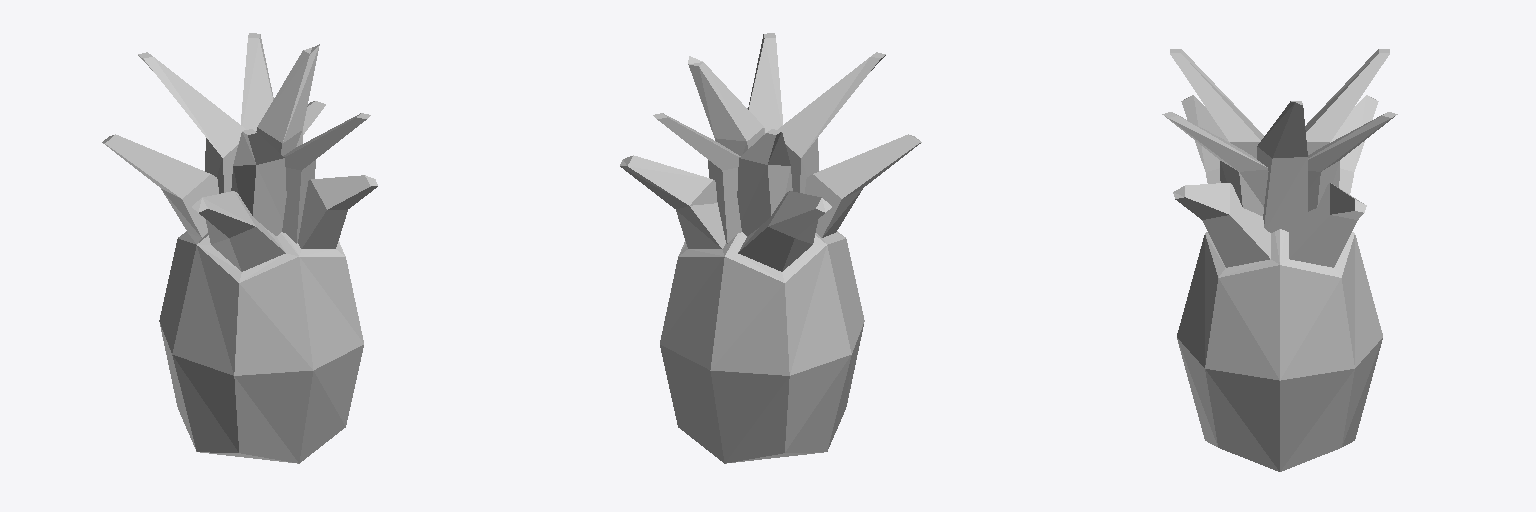
The model's file is pineapple.obj.
3 renders of one model, left to right at view 1: azimuth 30°, elevation 25°; view 2: azimuth 150°, elevation 25°; view 3: azimuth 270°, elevation 25°, orthographic.
Visible parts, largest first — view 1: Cube; view 2: Cube; view 3: Cube.
Part boxes in pixels (left/top/right/bottom): Cube: left=102, top=33, right=377, bottom=463; Cube: left=620, top=33, right=921, bottom=463; Cube: left=1162, top=49, right=1397, bottom=471.
Size of the model in its own units: 2.42 by 4.05 by 2.3.